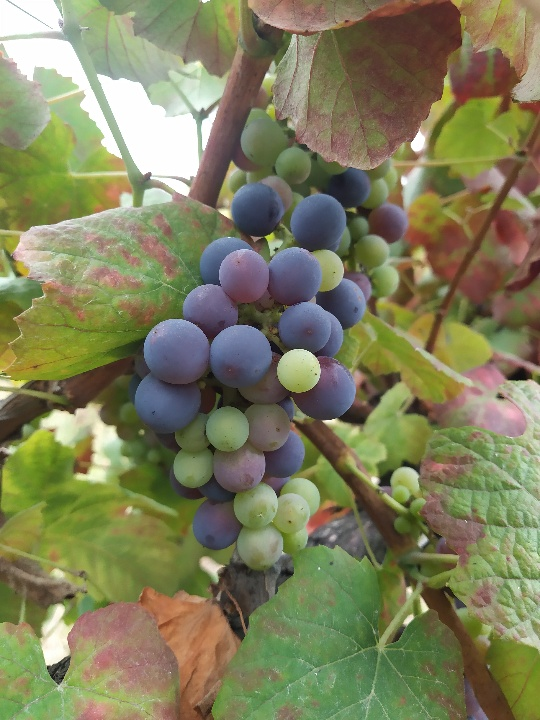grape: (133, 180, 370, 574)
